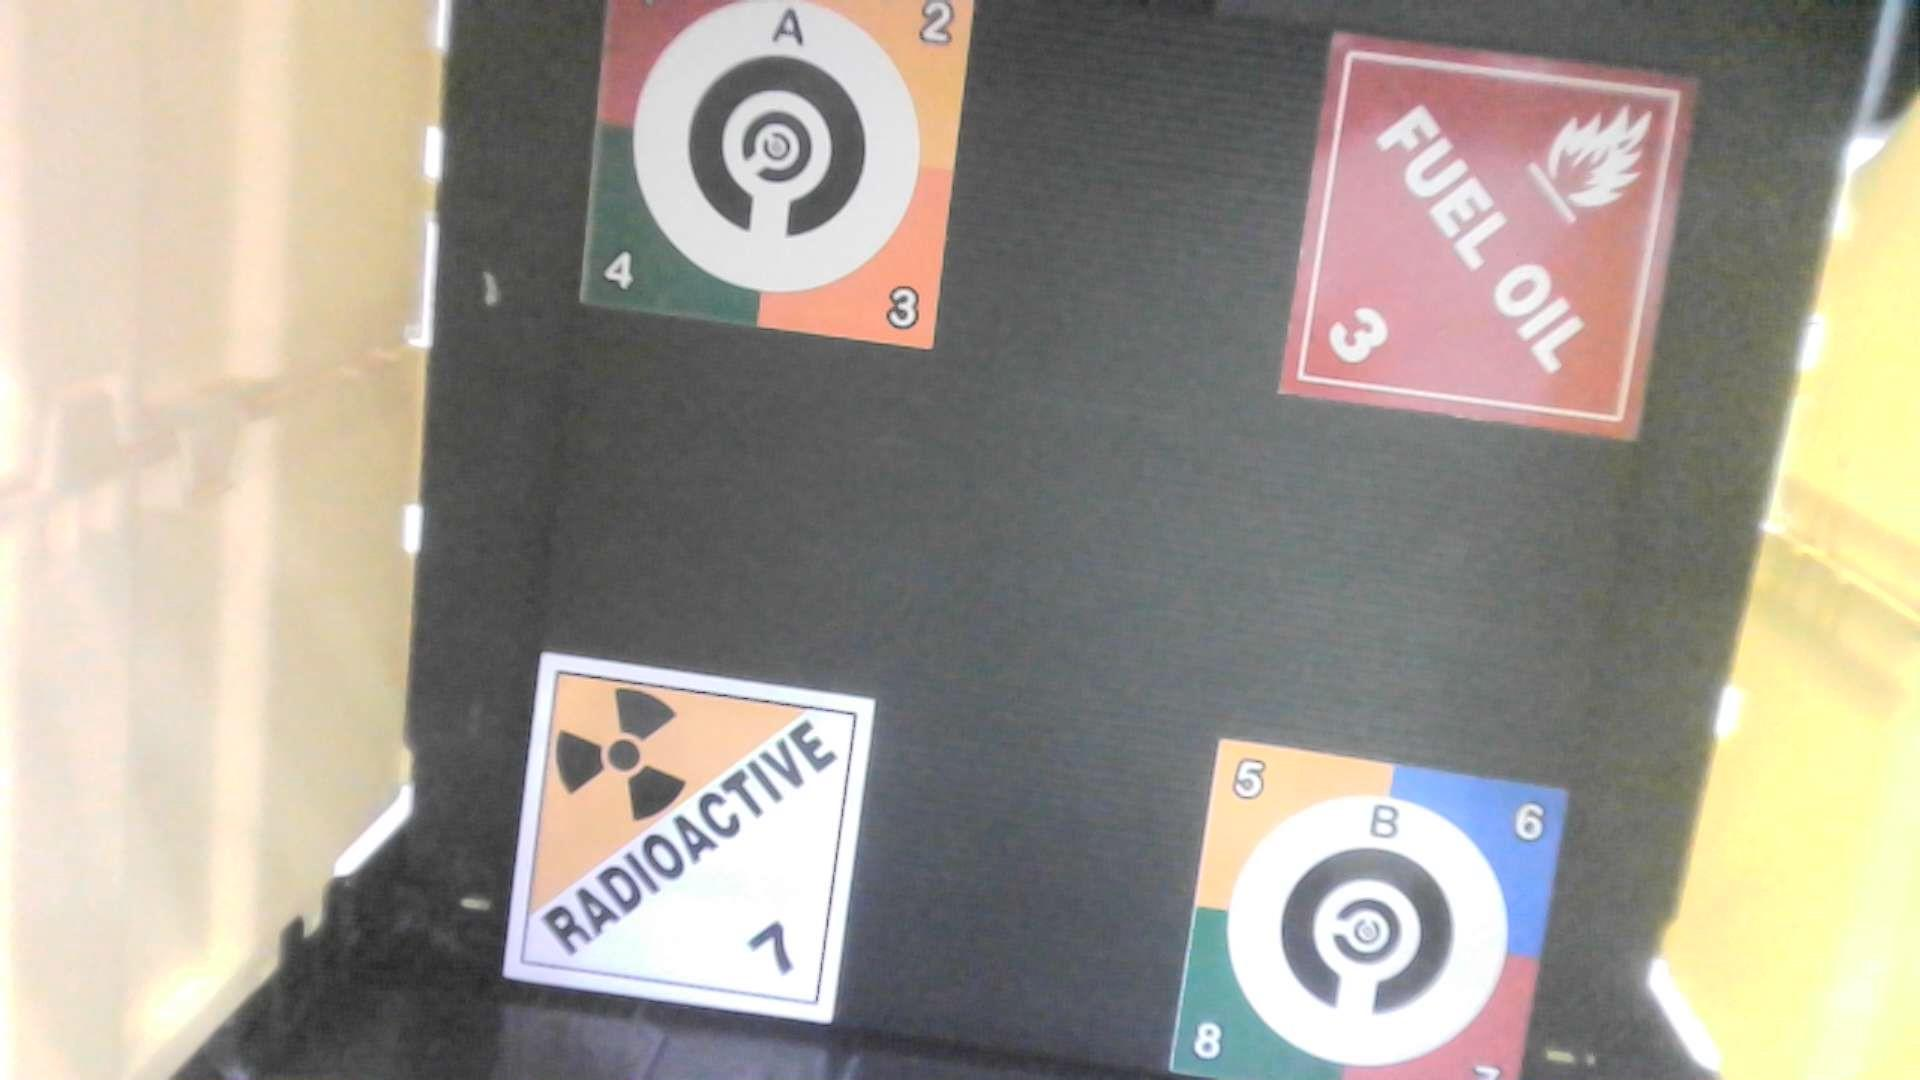flammable: (1284, 18, 1714, 451)
radioactive: (492, 640, 890, 1034)
